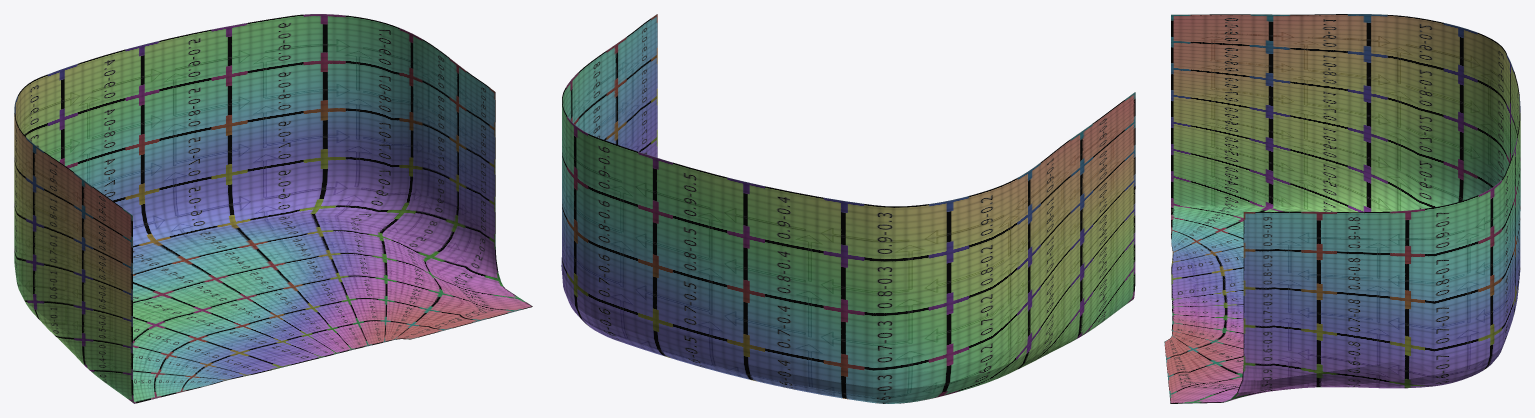
File: grenscreen-wall-withthickness.FBX
The picture shows the model from 3 angles, left to right: view 1: azimuth 30°, elevation 25°; view 2: azimuth 150°, elevation 25°; view 3: azimuth 270°, elevation 25°; orthographic projection. The views are drawn at different scales.
Visible parts, largest first — view 1: Walls_2; view 2: Walls_2; view 3: Walls_2.
Part boxes in pixels (x1,y1,x2,y2): Walls_2: (14, 14, 532, 403); Walls_2: (561, 14, 1135, 403); Walls_2: (1164, 14, 1520, 403).
Bounding box in the file's own units: 815 × 367 × 618.
1 material, 1 textured.
